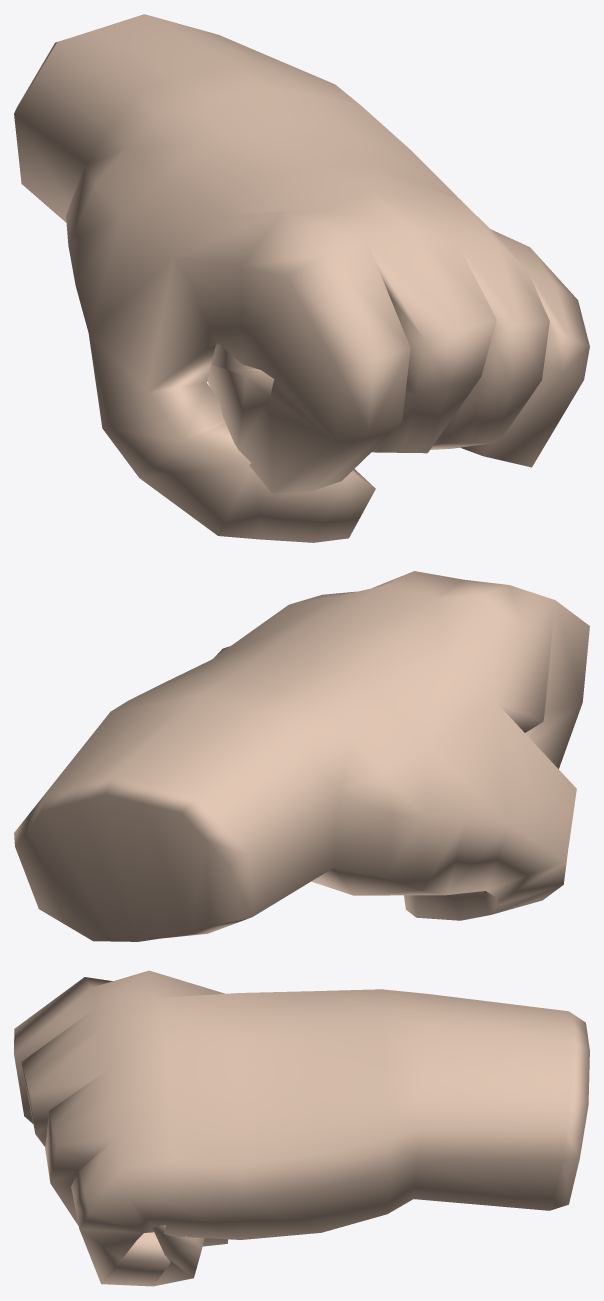
File: kobusi.fbx
3 views of the same model, one above another, from view 1: azimuth 30°, elevation 25°; view 2: azimuth 150°, elevation 25°; view 3: azimuth 270°, elevation 25° (orthographic). The views are drawn at different scales.
Parts seen in each view (by area): view 1: AnatomyHandHumanMale:hand_basemesh; view 2: AnatomyHandHumanMale:hand_basemesh; view 3: AnatomyHandHumanMale:hand_basemesh.
Boxes of the visible parts, box(x1,y1,x2,y2) form: AnatomyHandHumanMale:hand_basemesh: box(14, 14, 589, 542); AnatomyHandHumanMale:hand_basemesh: box(14, 571, 589, 941); AnatomyHandHumanMale:hand_basemesh: box(14, 970, 589, 1286).
Size of the model in its own units: 31.13 by 24.51 by 46.7.
